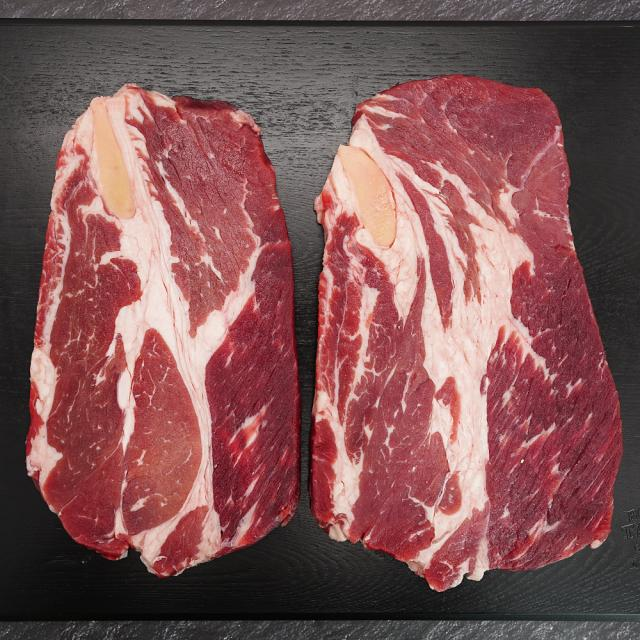beef: (346, 129, 603, 536), (75, 124, 297, 503)
